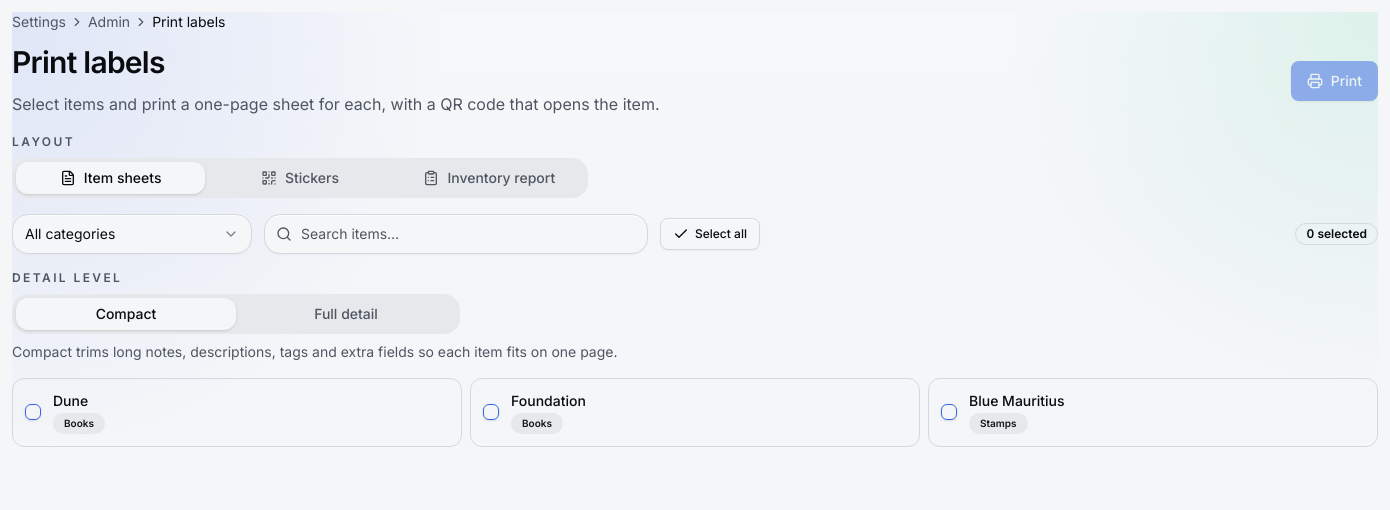
Test: AdminPrintLabels › shows empty state when no items match search
This screenshot has width=1390, height=510.
Type "nonexistent" into the field with placeholder "Search items…" at coordinates (456, 234), box [264,214,648,254]
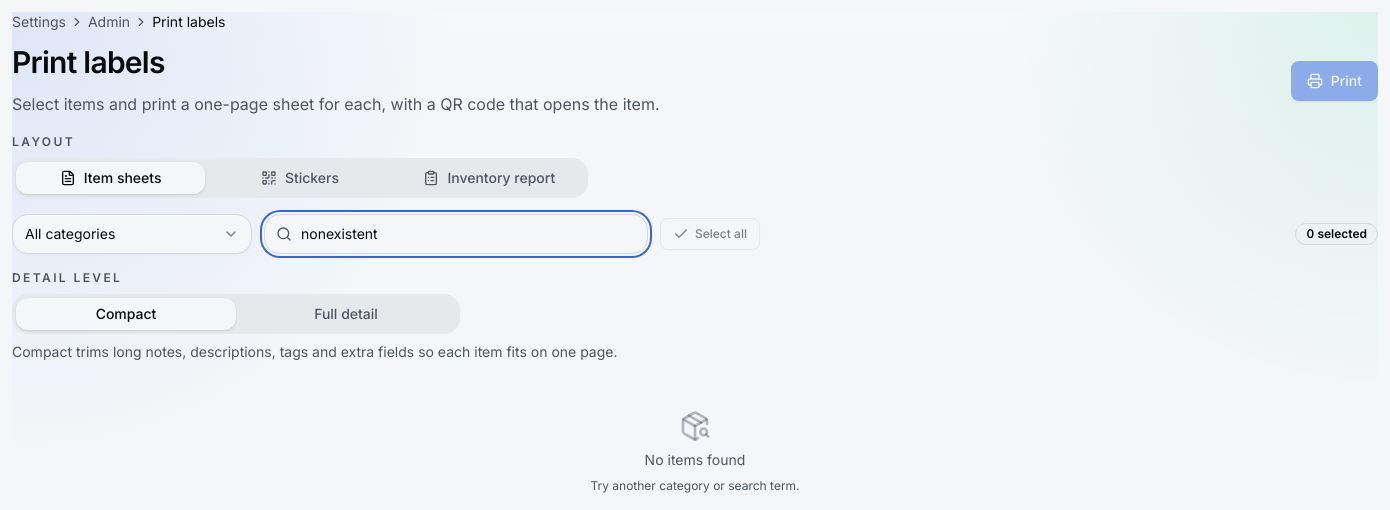
Result: the text "No items found" is shown at [645,450,745,470]
